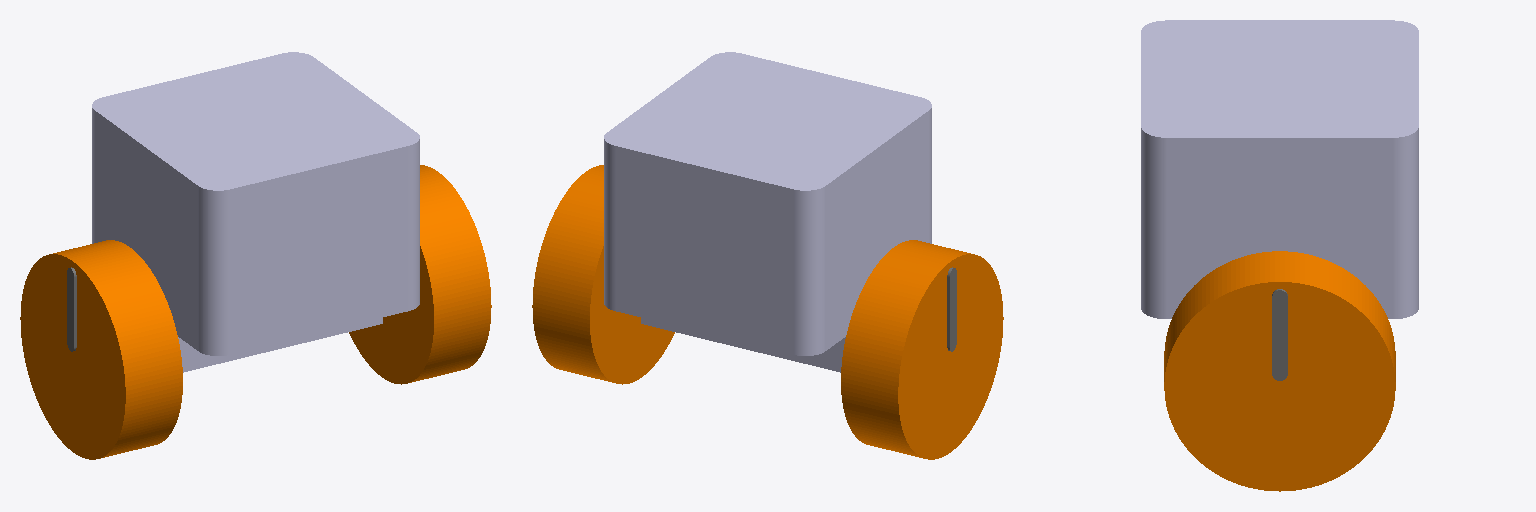
robot.urdf — assembly_bala2ish:
<!--URDF generated by ONSHAPE BY PTC INC, 1.221-->
<robot name="assembly_bala2ish">
    <link name="chassis">
        <inertial>
            <mass value="0.000122607" />
            <origin xyz="-4.31782e-19 0 0.0459784" rpy="0 -0 0" />
            <inertia ixx="4.75002e-08" ixy="0" ixz="0" iyy="4.96799e-08" iyz="0" izz="5.66912e-08" />
        </inertial>
        <visual>
            <origin xyz="0 0 0.0225" rpy="0 -0 0" />
            <geometry>
                <mesh filename="package://assembly_bala2ish/meshes/chassis.stl" scale="1 1 1" />
            </geometry>
            <material name="0.800000_0.800000_0.901961_0.000000_0.000000">
                <color rgba="0.8 0.8 0.901961 1" />
            </material>
        </visual>
    </link>
    <link name="mark_wheel">
        <inertial>
            <mass value="3.39412e-08" />
            <origin xyz="-0.0003 2.74555e-20 0.01125" rpy="0 -0 0" />
            <inertia ixx="1.03408e-12" ixy="0" ixz="0" iyy="1.01044e-12" iyz="0" izz="2.56789e-14" />
        </inertial>
        <visual>
            <origin xyz="0.0418 -2.17403e-34 0.00685857" rpy="0 -0 0" />
            <geometry>
                <mesh filename="package://assembly_bala2ish/meshes/mark_wheel.stl" scale="1 1 1" />
            </geometry>
            <material name="0.498039_0.498039_0.498039_0.000000_0.000000">
                <color rgba="0.498039 0.498039 0.498039 1" />
            </material>
        </visual>
    </link>
    <link name="mark_wheel_1">
        <inertial>
            <mass value="3.39412e-08" />
            <origin xyz="-0.0003 2.74555e-20 0.01125" rpy="0 -0 0" />
            <inertia ixx="1.03408e-12" ixy="0" ixz="0" iyy="1.01044e-12" iyz="0" izz="2.56789e-14" />
        </inertial>
        <visual>
            <origin xyz="0.0418 -2.17403e-34 0.00685857" rpy="0 -0 0" />
            <geometry>
                <mesh filename="package://assembly_bala2ish/meshes/mark_wheel.stl" scale="1 1 1" />
            </geometry>
            <material name="0.498039_0.498039_0.498039_0.000000_0.000000">
                <color rgba="0.498039 0.498039 0.498039 1" />
            </material>
        </visual>
    </link>
    <link name="root" />
    <link name="sensor_imu">
        <inertial>
            <mass value="2.744e-09" />
            <origin xyz="-3.46945e-18 -1.73472e-18 0.0007" rpy="0 -0 0" />
            <inertia ixx="0" ixy="0" ixz="0" iyy="0" iyz="0" izz="0" />
        </inertial>
        <visual>
            <origin xyz="-0.013 -0.007 -0.0416042" rpy="0 -0 0" />
            <geometry>
                <mesh filename="package://assembly_bala2ish/meshes/sensor_imu.stl" scale="1 1 1" />
            </geometry>
            <material name="0.972549_0.529412_0.003922_0.000000_0.000000">
                <color rgba="0.972549 0.529412 0.00392157 1" />
            </material>
        </visual>
    </link>
    <link name="wheel">
        <inertial>
            <mass value="0.0281308" />
            <origin xyz="0.007075 -8.36114e-19 -1.73472e-18" rpy="0 -0 0" />
            <inertia ixx="7.1206e-06" ixy="0" ixz="0" iyy="4.02967e-06" iyz="0" izz="4.02967e-06" />
        </inertial>
        <visual>
            <origin xyz="0.0418 -2.17403e-34 0.00685857" rpy="0 -0 0" />
            <geometry>
                <mesh filename="package://assembly_bala2ish/meshes/Wheel.stl" scale="1 1 1" />
            </geometry>
            <material name="0.972549_0.529412_0.003922_0.000000_0.000000">
                <color rgba="0.972549 0.529412 0.00392157 1" />
            </material>
        </visual>
    </link>
    <link name="wheel_1">
        <inertial>
            <mass value="0.0281308" />
            <origin xyz="-0.007075 -8.36114e-19 -8.67362e-19" rpy="0 -0 0" />
            <inertia ixx="7.1206e-06" ixy="0" ixz="0" iyy="4.02967e-06" iyz="0" izz="4.02967e-06" />
        </inertial>
        <visual>
            <origin xyz="0.02765 0 0.00685857" rpy="0 -0 0" />
            <geometry>
                <mesh filename="package://assembly_bala2ish/meshes/Wheel.stl" scale="1 1 1" />
            </geometry>
            <material name="0.972549_0.529412_0.003922_0.000000_0.000000">
                <color rgba="0.972549 0.529412 0.00392157 1" />
            </material>
        </visual>
    </link>
    <joint name="fastened_1" type="fixed">
        <origin xyz="0 0 0" rpy="0 -0 0" />
        <axis xyz="-0 -0 -1" />
        <parent link="root" />
        <child link="chassis" />
    </joint>
    <joint name="fastened_2" type="fixed">
        <origin xyz="0.008 0.0225 0.0625" rpy="0 -0 0" />
        <axis xyz="0 0 -1" />
        <parent link="chassis" />
        <child link="sensor_imu" />
    </joint>
    <joint name="fastened_3" type="fixed">
        <origin xyz="-0.01415 2.17403e-34 3.46945e-18" rpy="-3.03858e-64 1.75162e-46 -8.75812e-47" />
        <axis xyz="-1 -3.20732e-48 -2.1684e-16" />
        <parent link="wheel_1" />
        <child link="mark_wheel_1" />
    </joint>
    <joint name="fastened_4" type="fixed">
        <origin xyz="0.01415 -2.17403e-34 3.46945e-18" rpy="2.73691e-48 2.1684e-16 -3.14159" />
        <axis xyz="-1 -3.20732e-48 -2.1684e-16" />
        <parent link="wheel" />
        <child link="mark_wheel" />
    </joint>
    <joint name="wheel_left" type="continuous">
        <origin xyz="-0.031 3.85118e-32 0.0225" rpy="-2.5241e-48 -1.2326e-32 5.25487e-46" />
        <axis xyz="1 -0 -0" />
        <parent link="chassis" />
        <child link="wheel_1" />
    </joint>
    <joint name="wheel_right" type="continuous">
        <origin xyz="0.031 5.98699e-49 0.0225" rpy="-6.74701e-80 2.1684e-16 -3.20732e-48" />
        <axis xyz="-1 -3.20732e-48 -2.1684e-16" />
        <parent link="chassis" />
        <child link="wheel" />
    </joint>
</robot>

--- Render facts (derived) ---
Views: 3 orthographic renders of the robot side by side, from view 1: azimuth 30°, elevation 25°; view 2: azimuth 150°, elevation 25°; view 3: azimuth 270°, elevation 25°.
Robot: assembly_bala2ish — 7 links, 6 joints (2 continuous, 4 fixed); root link root; default pose: every joint at zero.
Visible links, largest first — view 1: chassis, wheel_1, wheel, mark_wheel_1; view 2: chassis, wheel_1, wheel, mark_wheel_1; view 3: chassis, wheel, mark_wheel.
Link boxes in pixels (x1=…): chassis: x1=92, y1=52, x2=419, y2=372; wheel_1: x1=20, y1=240, x2=182, y2=459; wheel: x1=349, y1=165, x2=491, y2=384; mark_wheel_1: x1=67, y1=267, x2=76, y2=351; chassis: x1=604, y1=52, x2=931, y2=372; wheel_1: x1=841, y1=240, x2=1003, y2=459; wheel: x1=532, y1=165, x2=674, y2=384; mark_wheel_1: x1=947, y1=267, x2=956, y2=351; chassis: x1=1141, y1=20, x2=1418, y2=318; wheel: x1=1164, y1=251, x2=1395, y2=491; mark_wheel: x1=1272, y1=289, x2=1287, y2=380.
Bounding box of the posed robot: 0.0915 × 0.054 × 0.0675 m (x, y, z).
Meshes: 4 distinct files referenced, 5 mesh visuals loaded (3 binary STL); not drawn: 1 (reference not matched to a file when rendering).
